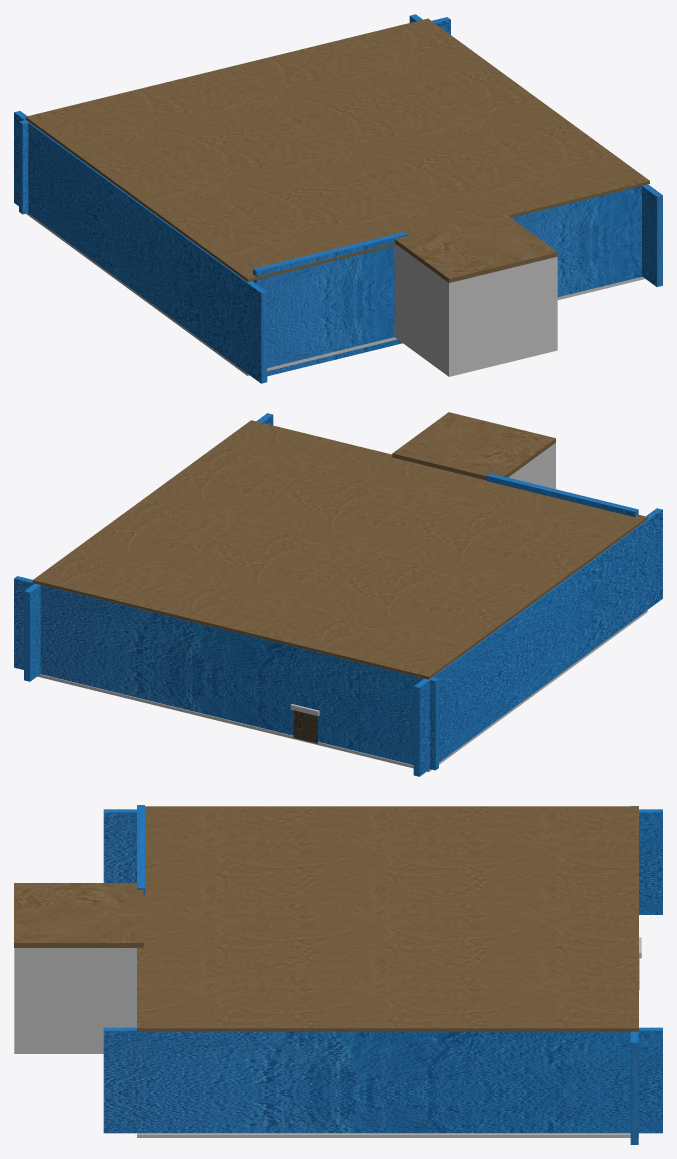
File: HellLobby.fbx
3 renders of one model, top to bottom at view 1: azimuth 30°, elevation 25°; view 2: azimuth 150°, elevation 25°; view 3: azimuth 270°, elevation 25°, orthographic. The views are drawn at different scales.
Visible parts, largest first — view 1: Cube.019, Cube.013, Cube.011, Cube.001, Cube.009, Cube.008, Cube.004, Cube.012, Cube.010, Cube.014; view 2: Cube.019, Cube.014, Cube.013, Cube.008, Cube.010, Cube.012, Cube.011, Cube.004, Cube.017; view 3: Cube.019, Cube.012, Cube.003, Cube.008, Cube.013, Cube.010, Cube.014, Cube.011, Cube.001.
Boxes of the visible parts, <box> form: Cube.019: <box>25,18,649,281</box>; Cube.013: <box>14,111,267,383</box>; Cube.011: <box>253,232,407,376</box>; Cube.001: <box>446,256,557,376</box>; Cube.009: <box>511,186,641,297</box>; Cube.008: <box>394,210,557,282</box>; Cube.004: <box>394,244,446,374</box>; Cube.012: <box>409,14,662,286</box>; Cube.010: <box>26,213,644,375</box>; Cube.014: <box>19,17,450,214</box>; Cube.019: <box>32,420,647,679</box>; Cube.014: <box>14,576,438,770</box>; Cube.013: <box>413,508,662,776</box>; Cube.008: <box>392,412,555,480</box>; Cube.010: <box>37,610,647,771</box>; Cube.012: <box>24,413,273,681</box>; Cube.011: <box>486,473,638,516</box>; Cube.004: <box>508,444,553,488</box>; Cube.017: <box>293,710,317,743</box>; Cube.019: <box>137,806,638,1031</box>; Cube.012: <box>103,1027,662,1133</box>; Cube.003: <box>19,948,136,1053</box>; Cube.008: <box>14,883,143,947</box>; Cube.013: <box>103,809,662,914</box>; Cube.010: <box>137,1133,638,1137</box>; Cube.014: <box>630,806,638,1144</box>; Cube.011: <box>137,805,144,894</box>; Cube.001: <box>14,948,19,1053</box>.
Bounding box in the file's own units: 3045 × 731 × 3534.
